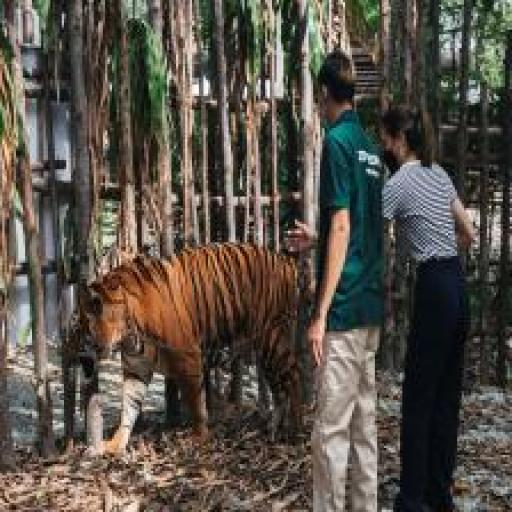Tiger: (66, 226, 309, 477)
